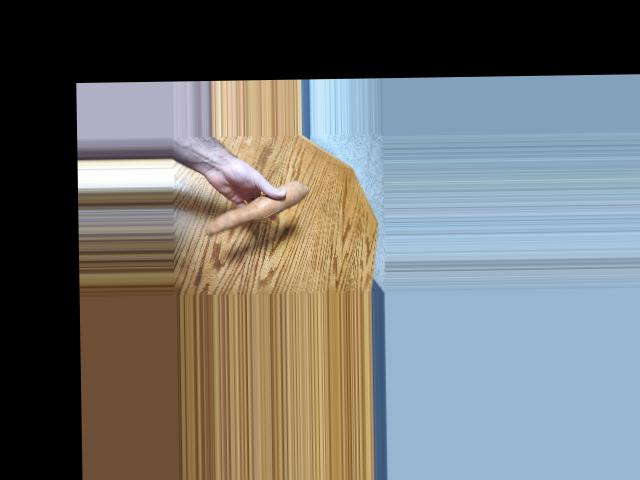sweet_potato: (203, 192, 313, 228)
